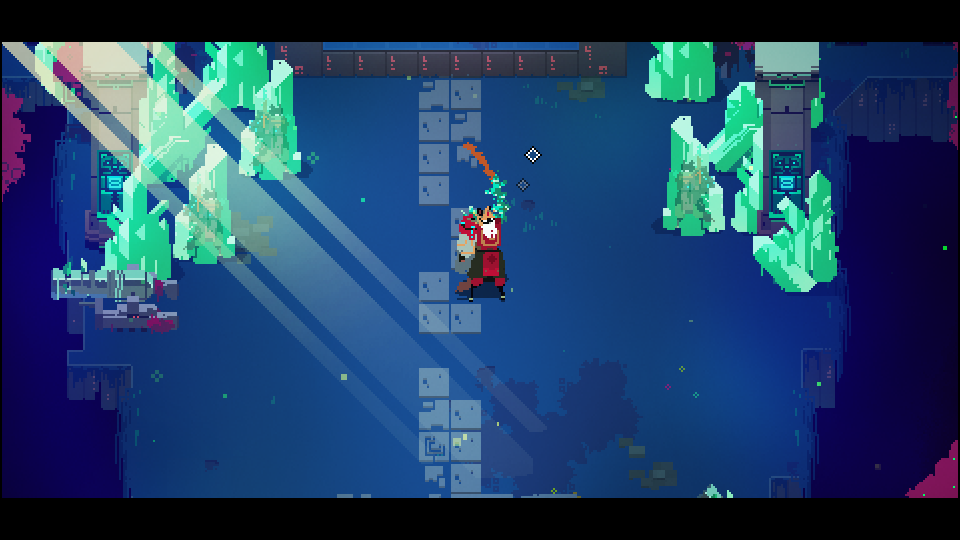hanged_man: (449, 171, 514, 298)
